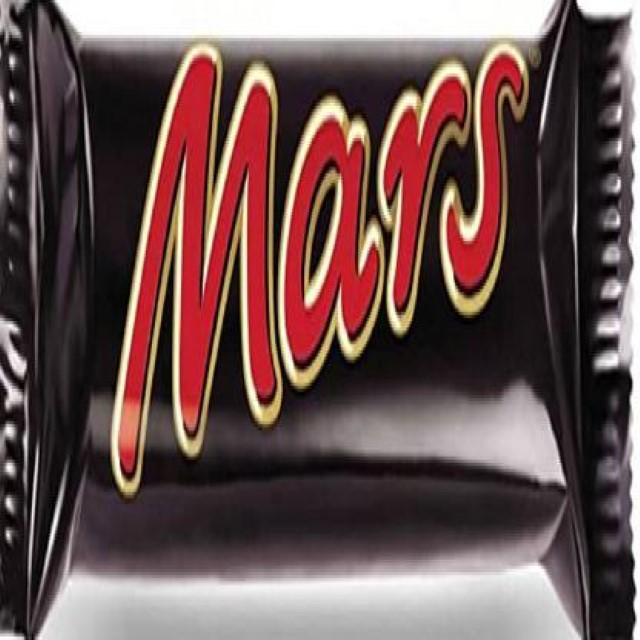mars_chocolate: (5, 16, 640, 640)
